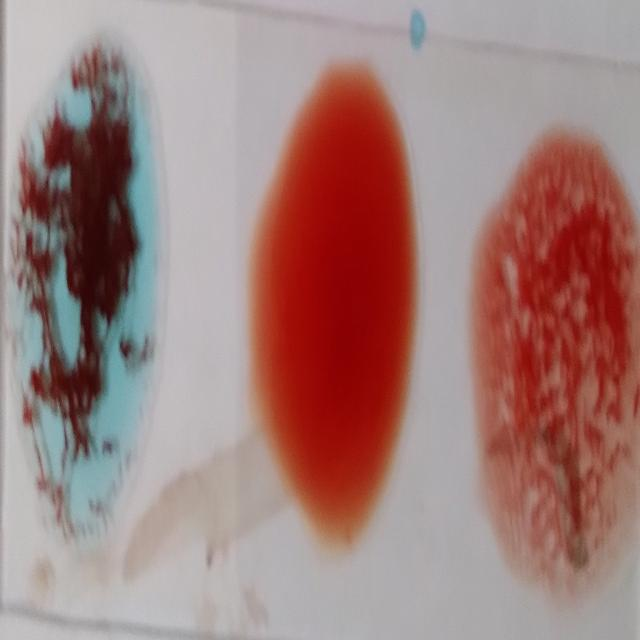A: (13, 54, 158, 538)
D: (483, 135, 632, 589)
